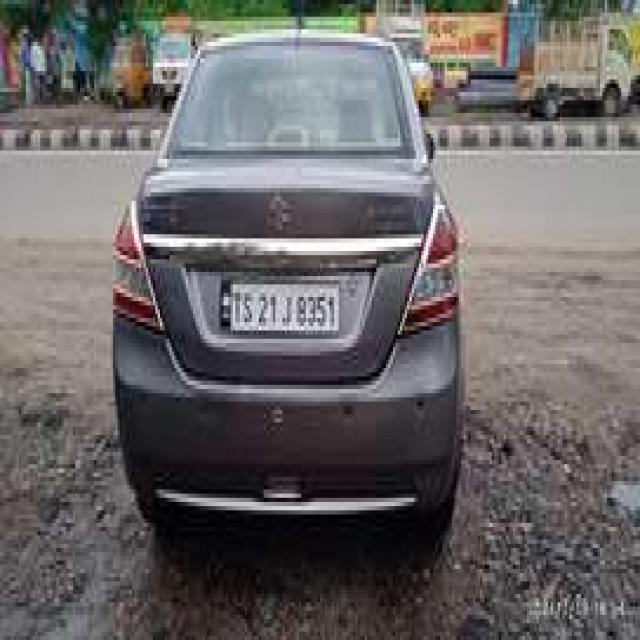licenseplate: (216, 264, 342, 340)
